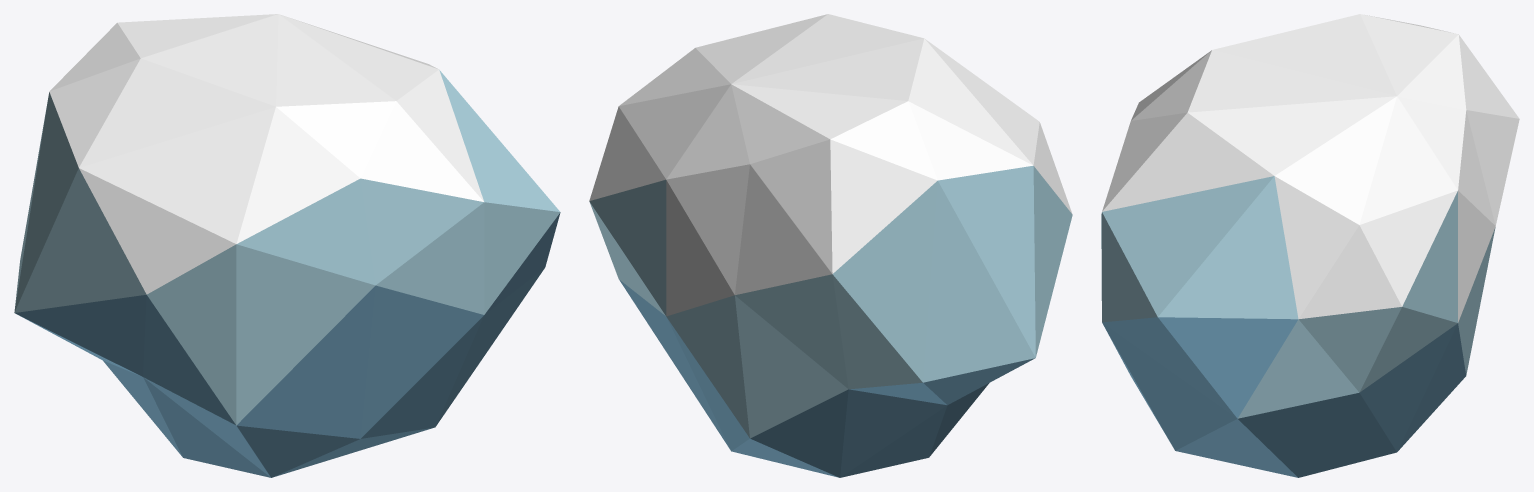
The model's file is terrainRockSmall2.fbx.
3 views of the same model, side by side, from view 1: azimuth 30°, elevation 25°; view 2: azimuth 150°, elevation 25°; view 3: azimuth 270°, elevation 25° (orthographic). The views are drawn at different scales.
Visible parts, largest first — view 1: smallRock; view 2: smallRock; view 3: smallRock.
Part boxes in pixels (x1,y1,x2,y2): smallRock: [14, 14, 560, 477]; smallRock: [589, 14, 1072, 477]; smallRock: [1101, 14, 1519, 477].
Size of the model in its own units: 268 by 223 by 212.
1 material, 1 textured.
